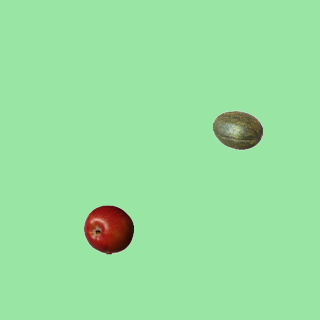Apple Braeburn: (83, 204, 133, 254)
Melon Piel de Sapo: (212, 105, 262, 155)
